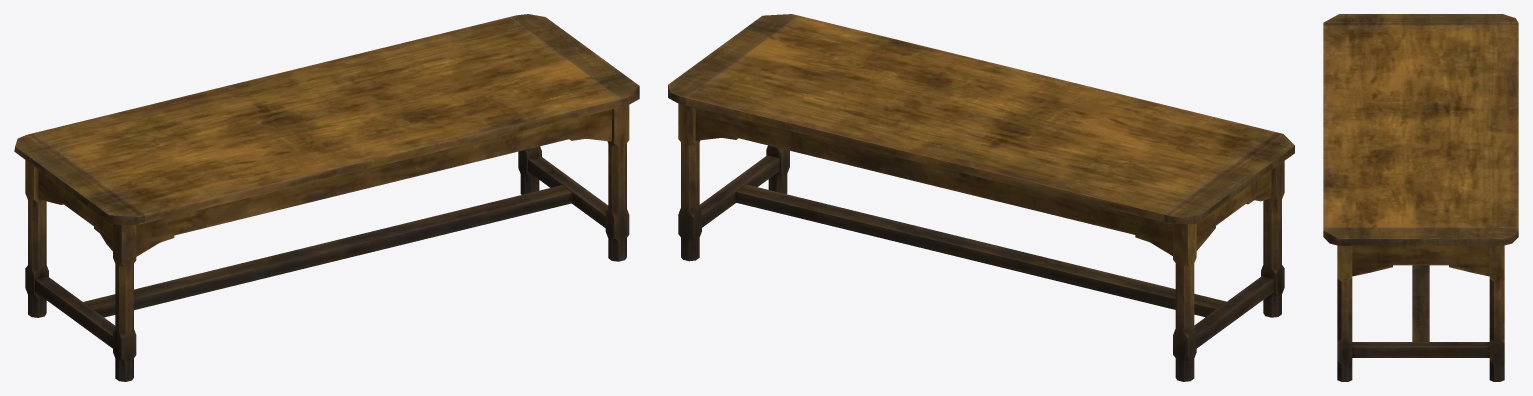
Rendered from WoodenTable_01.glb.
The picture shows the model from 3 angles, left to right: view 1: azimuth 30°, elevation 25°; view 2: azimuth 150°, elevation 25°; view 3: azimuth 270°, elevation 25°; orthographic projection. The views are drawn at different scales.
Parts seen in each view (by area): view 1: WoodenTable_01; view 2: WoodenTable_01; view 3: WoodenTable_01.
Boxes of the visible parts, x1,y1,x2,y2 form: WoodenTable_01: [14, 14, 639, 381]; WoodenTable_01: [668, 14, 1294, 381]; WoodenTable_01: [1323, 14, 1518, 381].
Bounding box in the file's own units: 1.79 × 0.5488 × 0.6572.
1 material, 1 textured.
